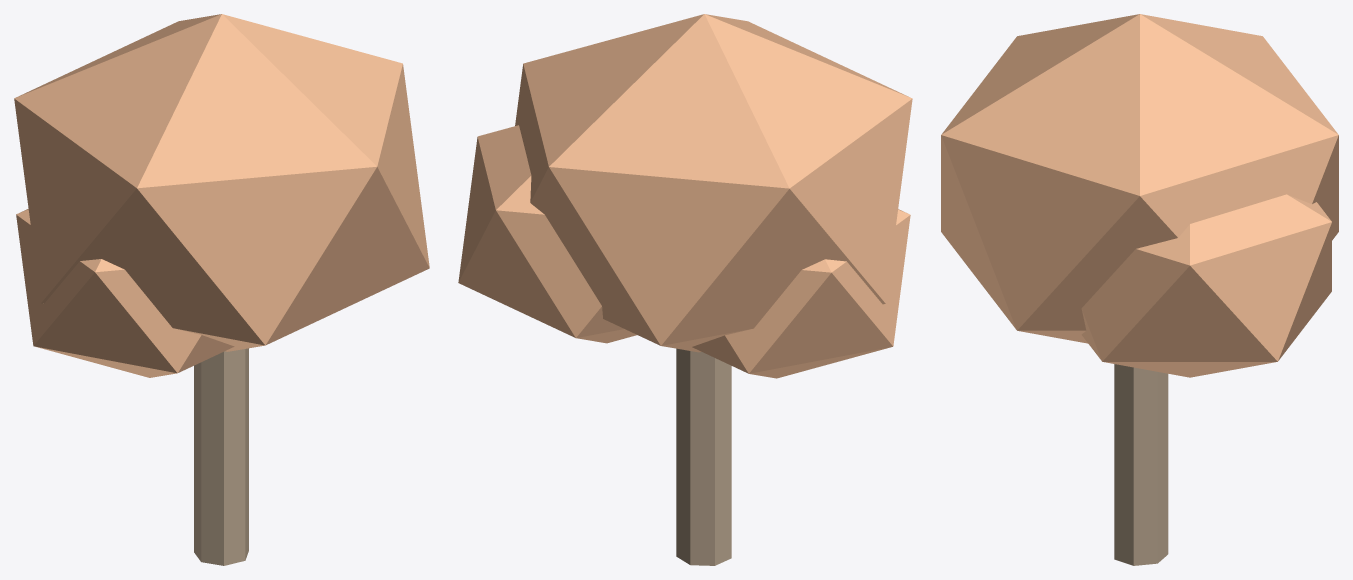
Rendered from tree_autumn.glb.
3 views of the same model, side by side, from view 1: azimuth 30°, elevation 25°; view 2: azimuth 150°, elevation 25°; view 3: azimuth 270°, elevation 25° (orthographic).
Visible parts, largest first — view 1: tree_autumn__leaf_crown, tree_autumn__leaf_crown.001, tree_autumn__trunk; view 2: tree_autumn__leaf_crown, tree_autumn__leaf_crown.002, tree_autumn__leaf_crown.001, tree_autumn__trunk; view 3: tree_autumn__leaf_crown, tree_autumn__leaf_crown.002, tree_autumn__trunk.
Part boxes in pixels (x1,y1,x2,y2): tree_autumn__leaf_crown: [14, 14, 429, 351]; tree_autumn__leaf_crown.001: [16, 208, 234, 377]; tree_autumn__trunk: [194, 348, 248, 565]; tree_autumn__leaf_crown: [515, 14, 912, 352]; tree_autumn__leaf_crown.002: [458, 125, 636, 343]; tree_autumn__leaf_crown.001: [692, 209, 910, 378]; tree_autumn__trunk: [676, 348, 731, 565]; tree_autumn__leaf_crown: [941, 14, 1338, 343]; tree_autumn__leaf_crown.002: [1081, 194, 1331, 377]; tree_autumn__trunk: [1114, 364, 1168, 565].
Size of the model in its own units: 5.4 by 7.14 by 4.76.
